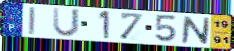1: (97, 10, 112, 41)
5: (154, 13, 179, 44)
7: (119, 11, 146, 41)
I: (28, 6, 37, 36)
N: (180, 15, 212, 46)
U: (51, 6, 83, 39)
